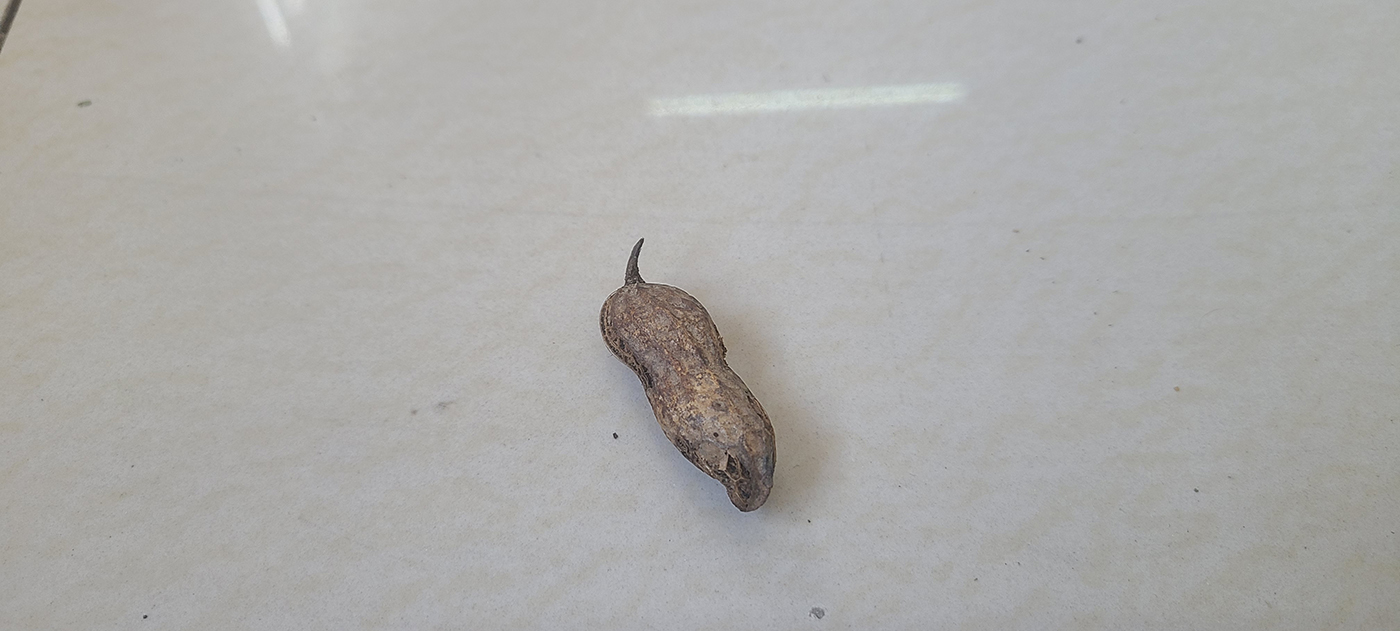l: (600, 282, 780, 514)
